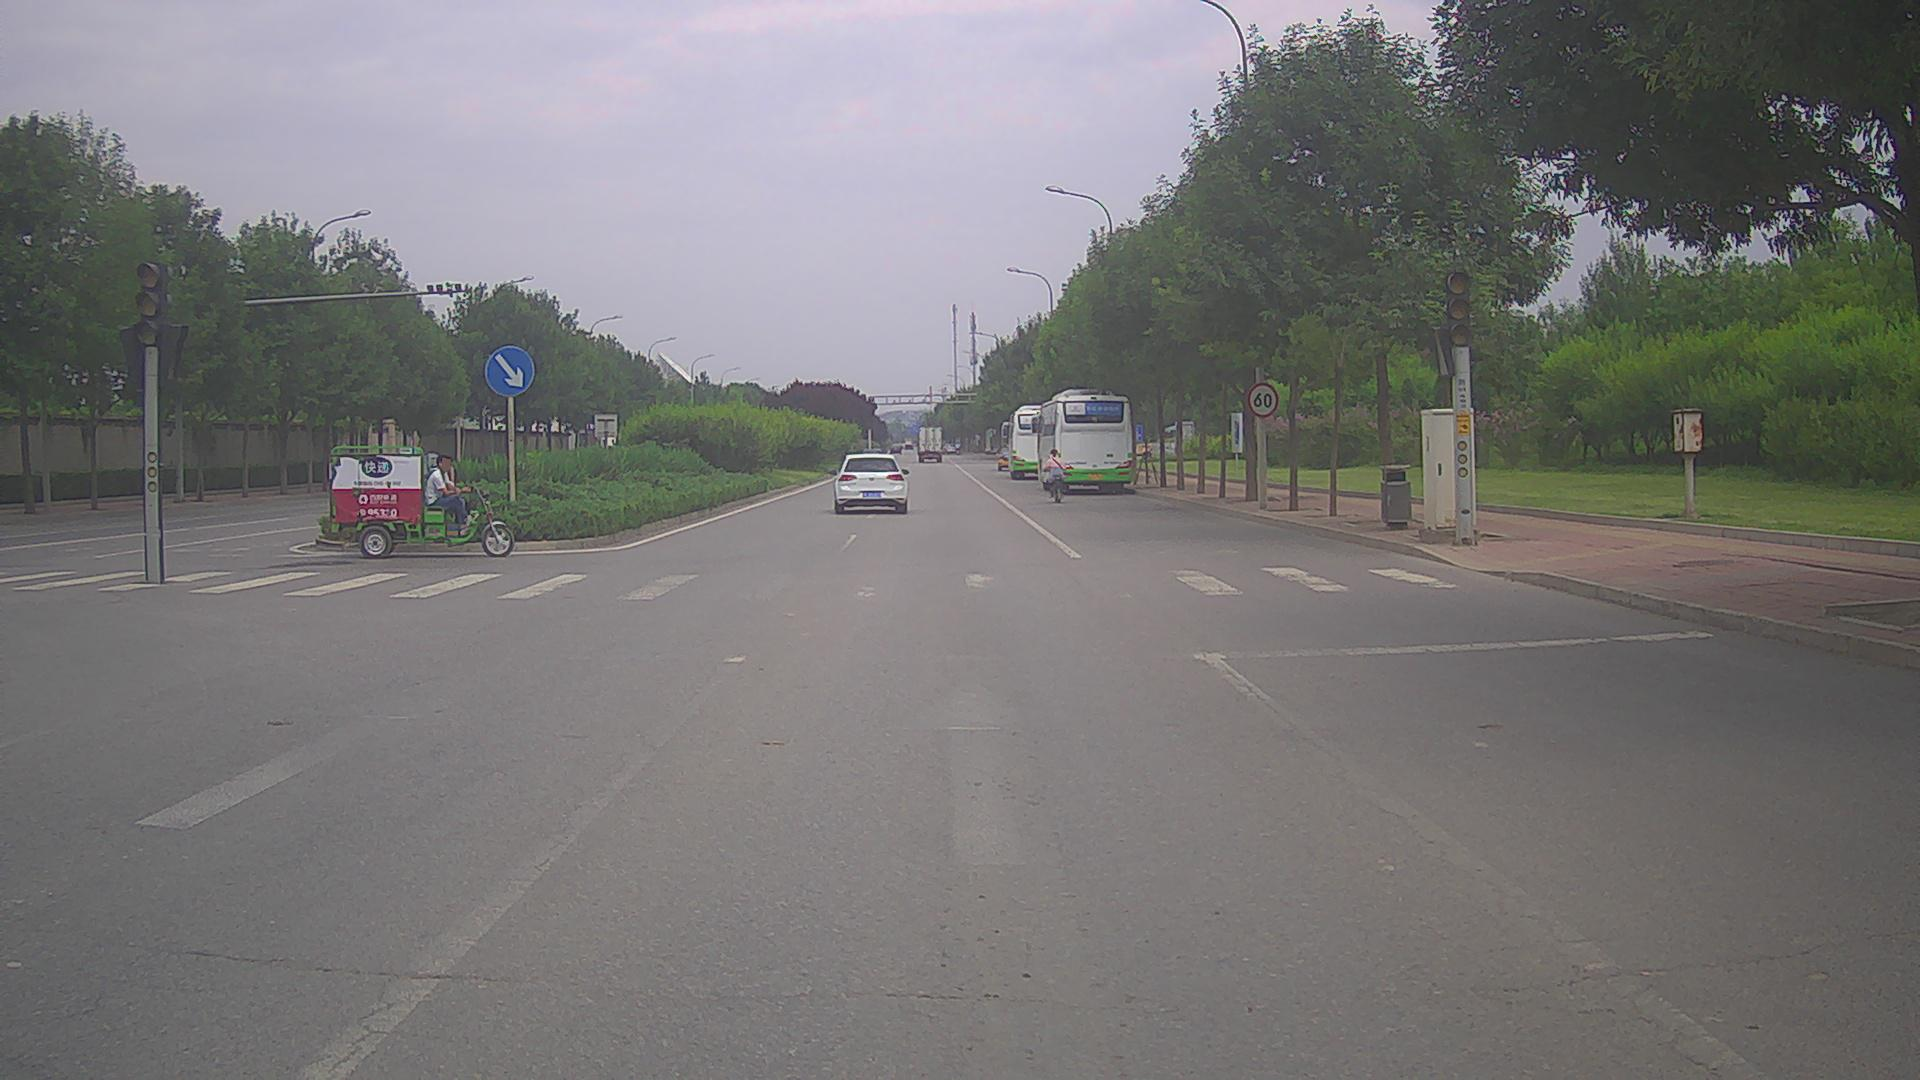bus: (1030, 386, 1133, 495), (1001, 404, 1062, 480)
car: (825, 452, 910, 514), (996, 450, 1019, 471), (887, 443, 903, 454)
ignore: (942, 442, 960, 454), (903, 442, 914, 450)
motorcyclist: (1040, 447, 1067, 502)
tricyclelist: (330, 444, 514, 558)
truck: (1155, 419, 1220, 456), (916, 426, 943, 463)
